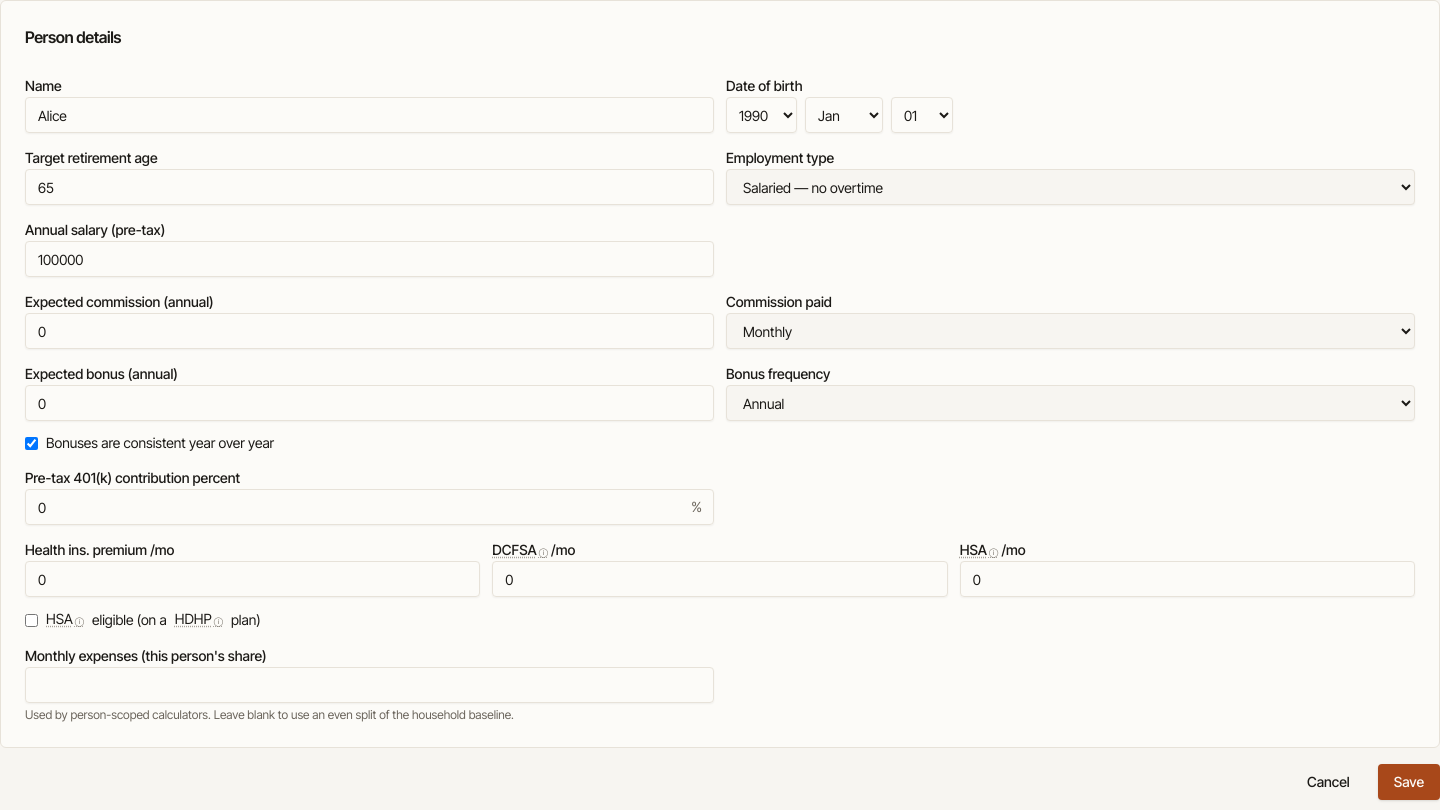
Scenario: PersonForm — pretax 401(k) percent input › shows a validation error and blocks submit when the user enters 150
Replace the text in the number field labelled "Pre-tax 401(k) contribution percent" with "150" at point(370, 507), box [25,489,714,525]
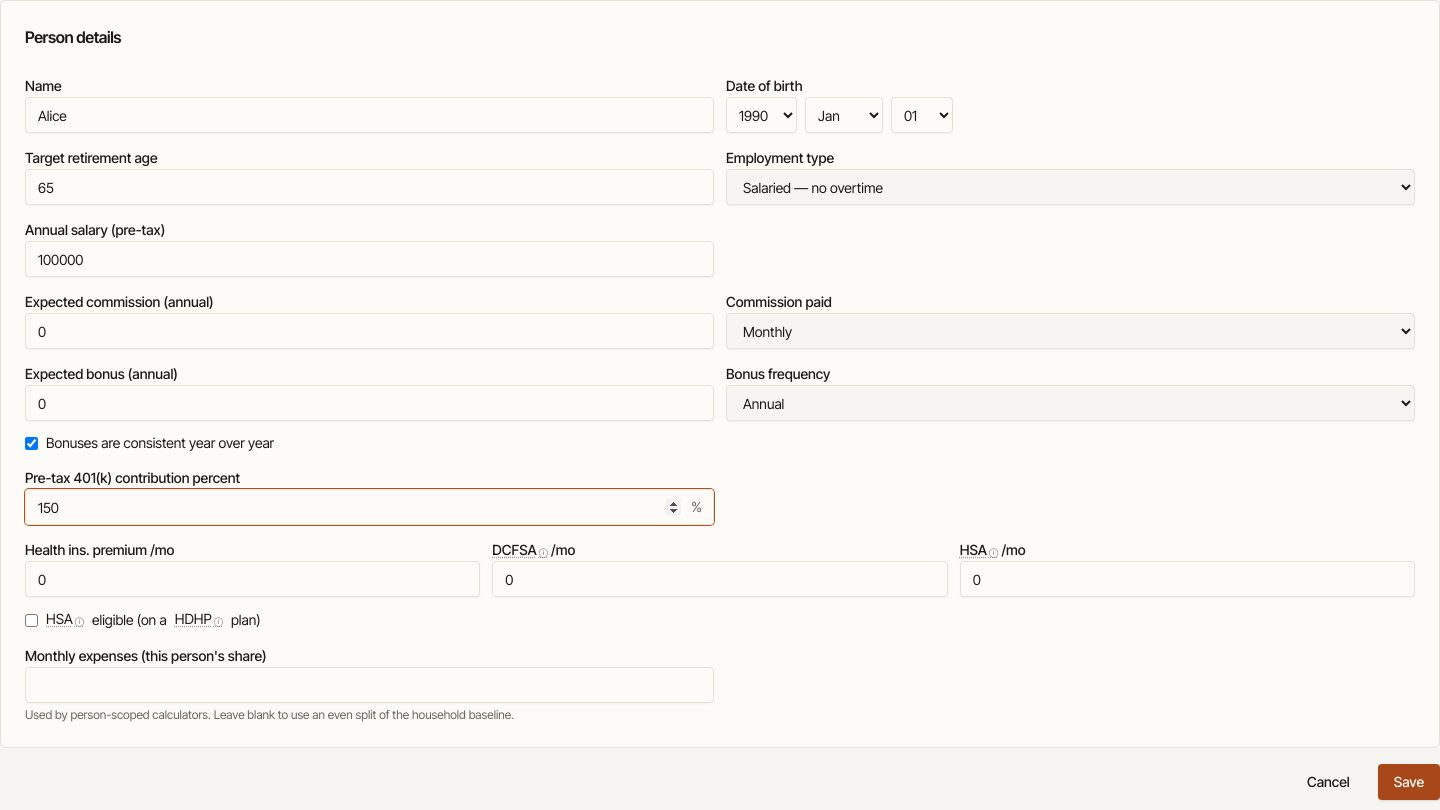
Click the button "Save" at point(1409, 782), box [1378,764,1439,800]
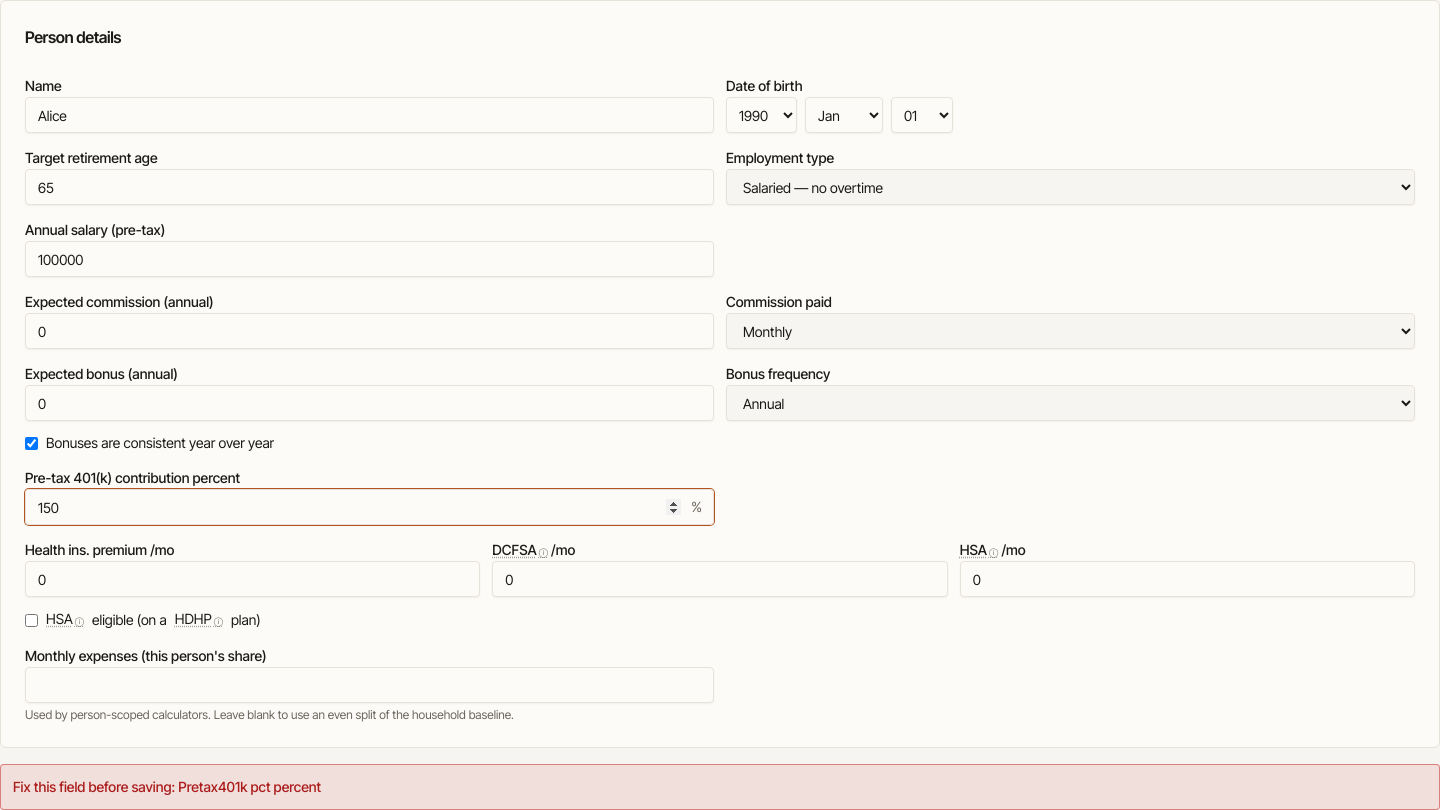
Check: the message shows "Pretax401k pct percent", box [178,778,321,795]
